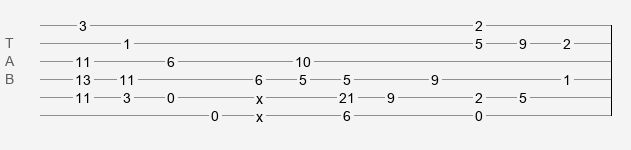0: (167, 90, 175, 100), (211, 108, 219, 118), (475, 108, 483, 118)
1: (123, 36, 131, 46), (563, 72, 571, 82)
10: (295, 54, 311, 64)
11: (75, 90, 91, 100), (75, 54, 91, 64), (119, 72, 135, 82)
13: (75, 72, 91, 82)
2: (475, 90, 483, 100), (475, 18, 483, 28), (563, 36, 571, 46)
21: (339, 90, 355, 100)
3: (79, 18, 87, 28), (123, 90, 131, 100)
5: (299, 72, 307, 82), (343, 72, 351, 82), (475, 36, 483, 46), (519, 90, 527, 100)
6: (167, 54, 175, 64), (255, 72, 263, 82), (343, 108, 351, 118)
9: (387, 90, 395, 100), (431, 72, 439, 82), (519, 36, 527, 46)
x: (256, 91, 263, 99), (256, 109, 263, 117)
